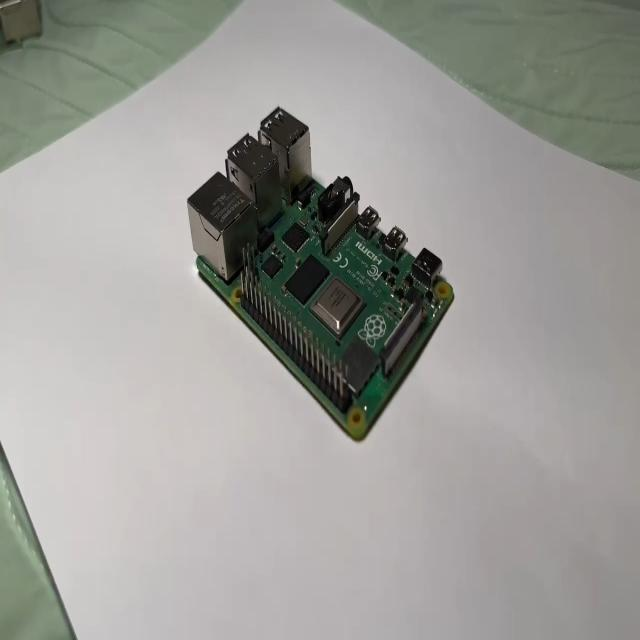CPU: (308, 276, 364, 343)
Ethernet: (185, 171, 264, 284)
GPIO: (238, 269, 355, 417)
RAM: (284, 257, 330, 305)
Raspberry: (186, 111, 456, 444)
micro-hdmi: (356, 204, 408, 262)
